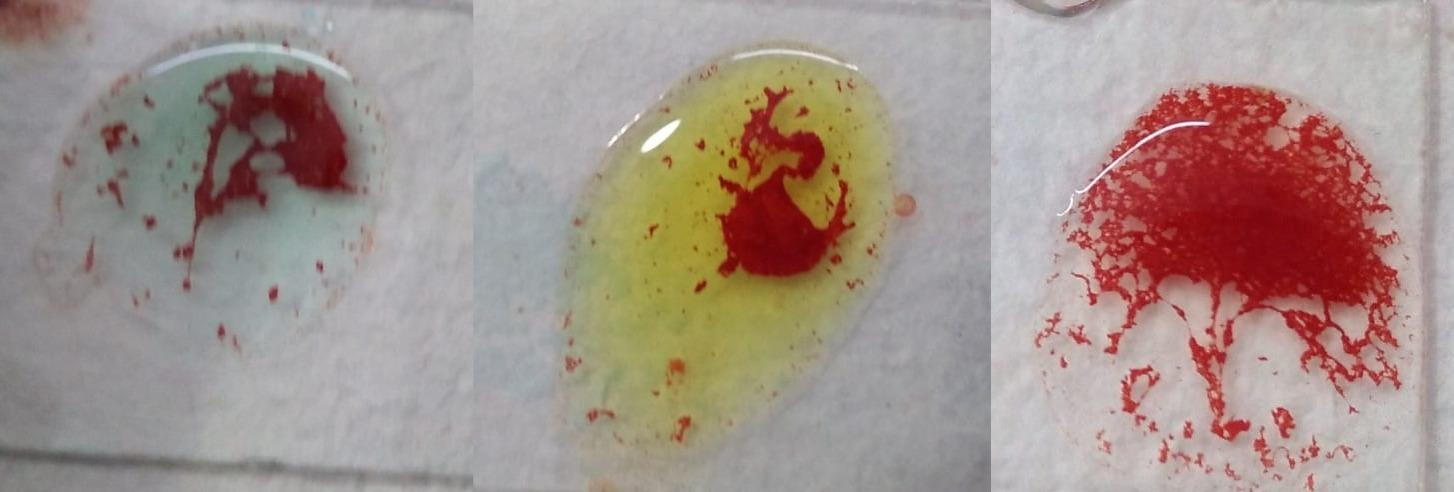A: (54, 27, 387, 351)
B: (560, 46, 901, 444)
D: (1031, 79, 1419, 492)
